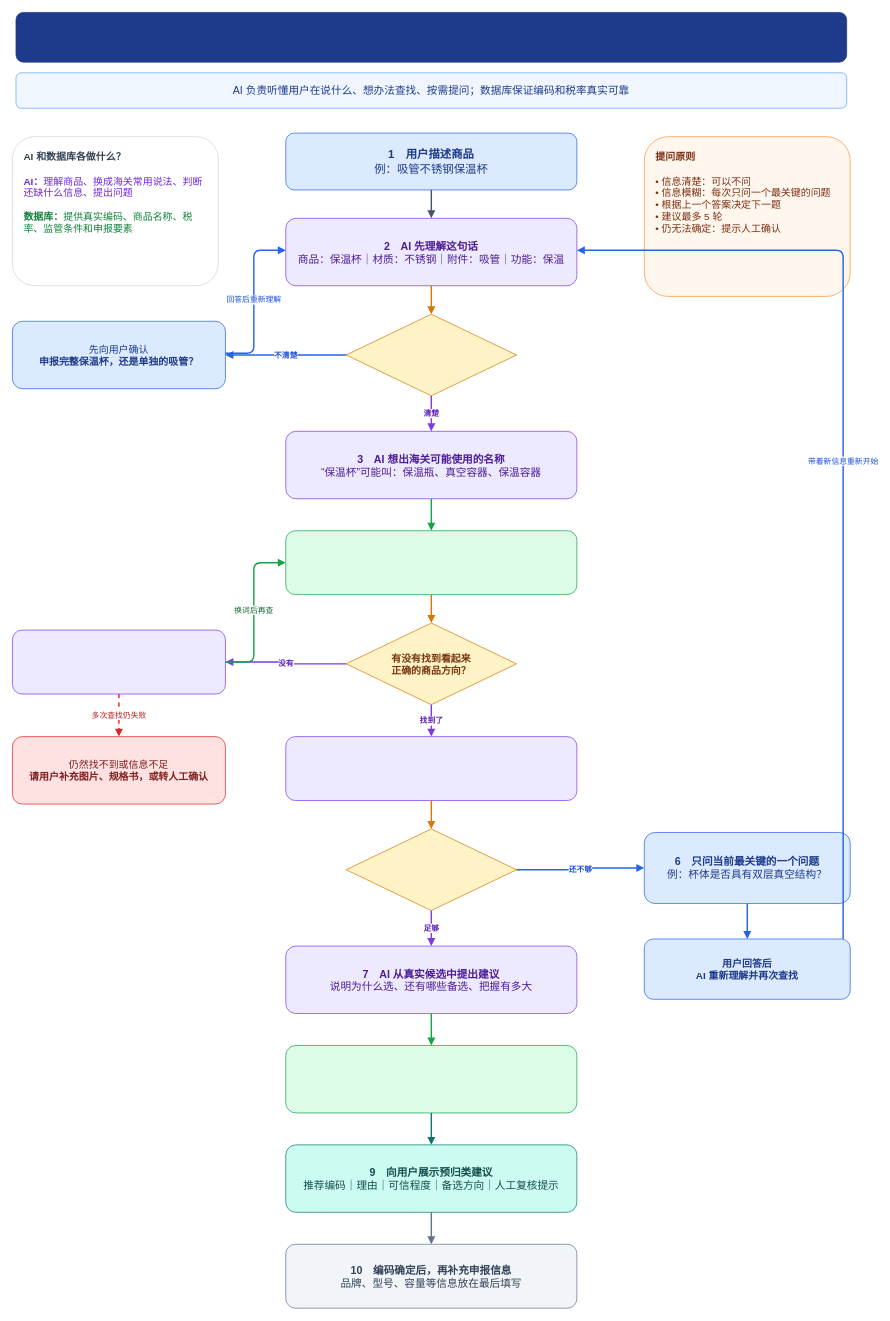
Image size: 890x1321. Some labels were removed from this diagram. The shapes that lost their labels are listed below. From the top down, each one's centre as x and y in pixels, then its label:
point (431, 37): HS Copilot｜AI 智能归类流程（汇报简明版）
point (431, 354): 用户说的是哪件商品 已经清楚了吗？
point (431, 562): 4 用多种说法查数据库 同时查商品名称、俗称、用途和相关说明
point (118, 661): AI 换一种海关常用说法再找 建议最多尝试 2 次
point (431, 768): 5 AI 看看还缺哪些关键信息 只关注“答案不同会不会改变编码”
point (431, 869): 现在的信息够不够 判断编码方向？
point (431, 1079): 8 数据库做最后核对 确认编码真实存在，并补上名称、税率和监管信息
